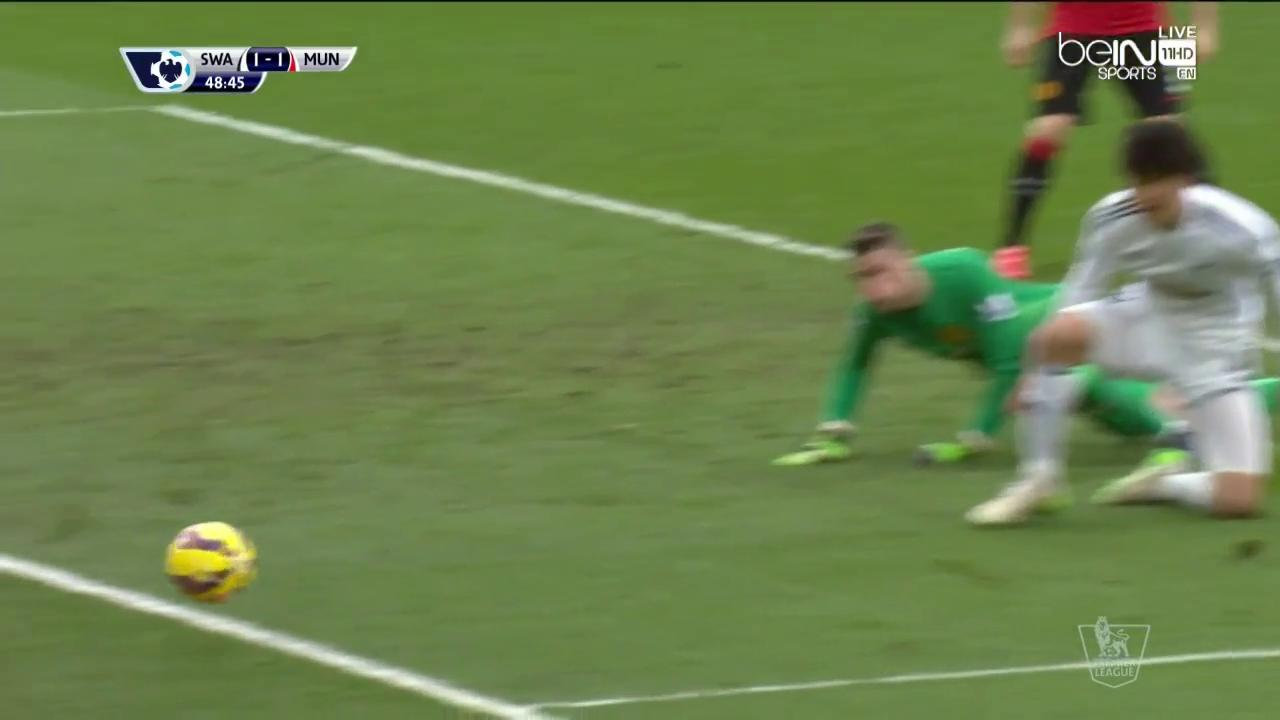football: (166, 522, 258, 602)
